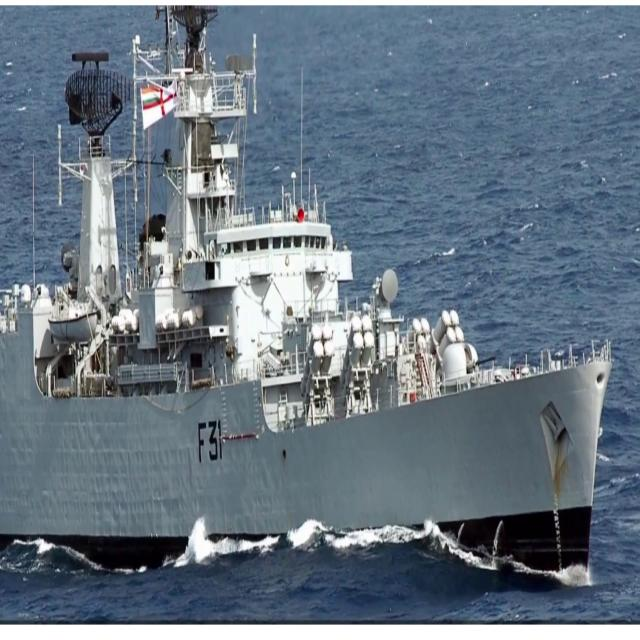OCR: (191, 409, 223, 468)
